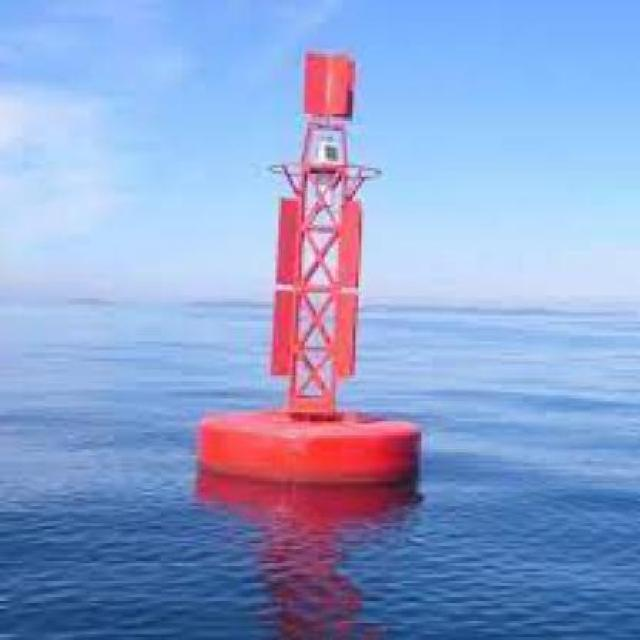buoy: (186, 36, 433, 502)
